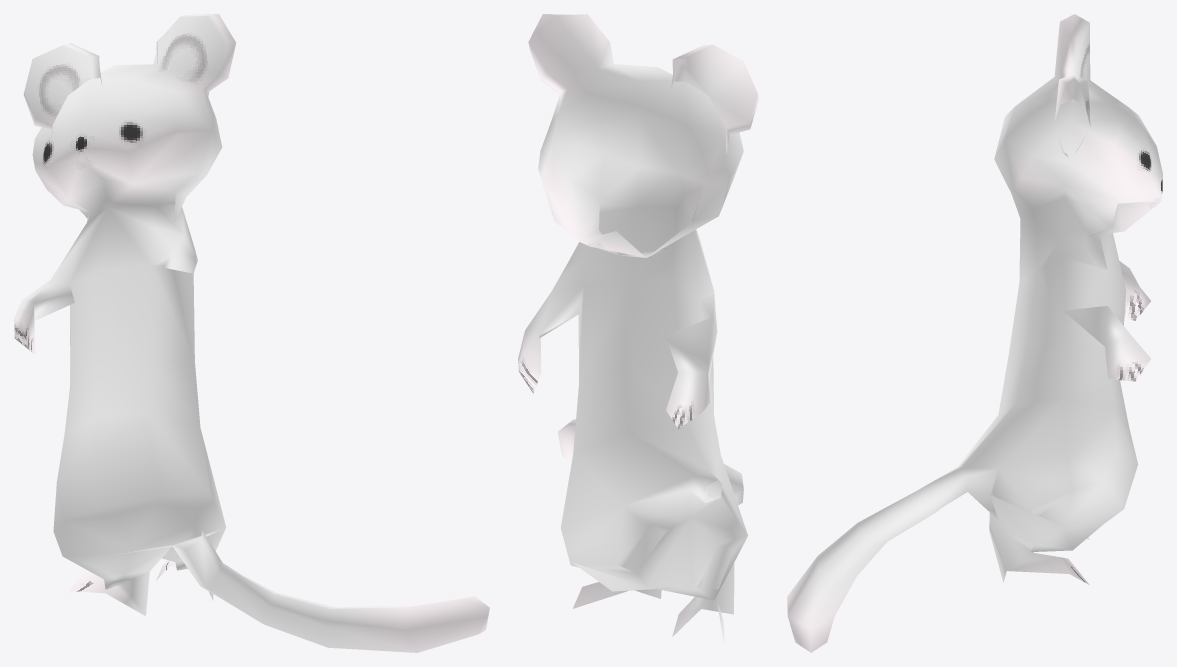
The model's file is ps2_save-icons_shinohomura.glb.
3 renders of one model, left to right at view 1: azimuth 30°, elevation 25°; view 2: azimuth 150°, elevation 25°; view 3: azimuth 270°, elevation 25°, orthographic. The views are drawn at different scales.
Parts seen in each view (by area): view 1: SAVE.ICO; view 2: SAVE.ICO; view 3: SAVE.ICO.
Part boxes in pixels (x1,y1,x2,y2): SAVE.ICO: (14,14,489,652); SAVE.ICO: (518,14,758,644); SAVE.ICO: (787,14,1162,652).
Bounding box in the file's own units: 2.28 × 3.71 × 2.46.
1 material, 1 textured.
